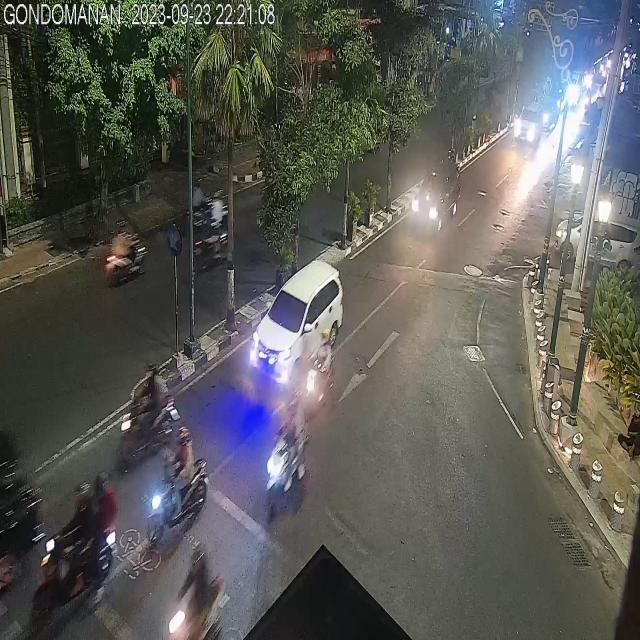car: (247, 260, 345, 378), (414, 156, 459, 238), (514, 107, 539, 142)
motorcycle: (35, 479, 115, 613), (146, 412, 212, 534), (262, 394, 316, 514), (163, 539, 223, 640), (120, 367, 180, 458), (105, 221, 148, 288), (198, 190, 237, 262), (309, 330, 338, 420)
